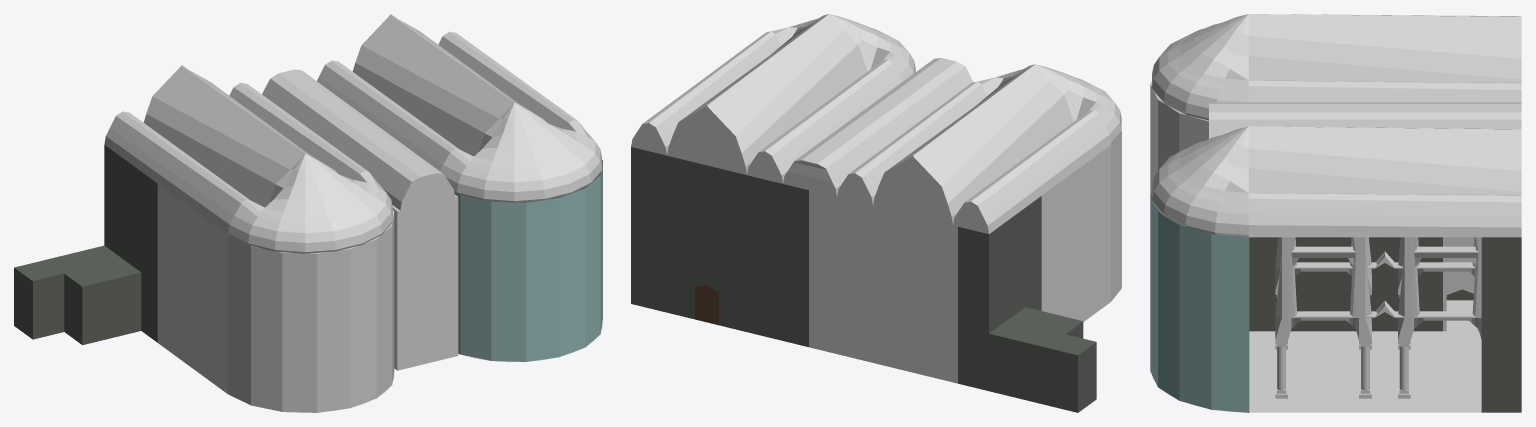
File: kerk 1.fbx
The picture shows the model from 3 angles, left to right: view 1: azimuth 30°, elevation 25°; view 2: azimuth 150°, elevation 25°; view 3: azimuth 270°, elevation 25°; orthographic projection. The views are drawn at different scales.
Parts seen in each view (by area): view 1: Circle.011, Circle.002, Cube.163, Cube.093, Cube.084, Cube.166, Cube.137, Circle.009; view 2: Circle.011, Circle.002, Cube.084, Cube.060, Cube.140, Cube.166, Cube.146, Cube.055, Circle.009, Cube.041, Cube.163; view 3: Circle.002, Circle.011, Cube.093, Plane, Cube.039, Cube.051, Circle.009, Cube.146, Cube.163, Cube.165, Cube.087, Plane.001.
Part boxes in pixels (left/top/right/bottom): Circle.011: left=104, top=65, right=392, bottom=253; Circle.002: left=317, top=14, right=601, bottom=202; Cube.163: left=228, top=210, right=394, bottom=412; Cube.093: left=454, top=160, right=602, bottom=361; Cube.084: left=14, top=145, right=157, bottom=345; Cube.166: left=157, top=184, right=227, bottom=393; Cube.137: left=392, top=195, right=458, bottom=370; Circle.009: left=262, top=69, right=454, bottom=210; Circle.011: left=837, top=64, right=1121, bottom=233; Circle.002: left=631, top=14, right=915, bottom=183; Cube.084: left=958, top=196, right=1096, bottom=412; Cube.060: left=809, top=190, right=897, bottom=368; Cube.140: left=722, top=169, right=808, bottom=347; Cube.166: left=1041, top=145, right=1110, bottom=321; Cube.146: left=631, top=147, right=691, bottom=318; Cube.055: left=898, top=212, right=957, bottom=383; Circle.009: left=783, top=58, right=972, bottom=196; Cube.041: left=692, top=162, right=721, bottom=325; Cube.163: left=1111, top=130, right=1121, bottom=301; Circle.002: left=1152, top=126, right=1521, bottom=237; Circle.011: left=1152, top=14, right=1521, bottom=120; Cube.093: left=1150, top=193, right=1249, bottom=412; Plane: left=1249, top=330, right=1481, bottom=412; Cube.039: left=1275, top=237, right=1481, bottom=398; Cube.051: left=1249, top=237, right=1442, bottom=331; Circle.009: left=1209, top=102, right=1521, bottom=138; Cube.146: left=1481, top=237, right=1521, bottom=412; Cube.163: left=1150, top=81, right=1208, bottom=195; Cube.165: left=1275, top=238, right=1475, bottom=349; Cube.087: left=1443, top=237, right=1478, bottom=331; Plane.001: left=1446, top=300, right=1477, bottom=329.
Bounding box in the file's own units: 89.47 × 41.86 × 57.5.
